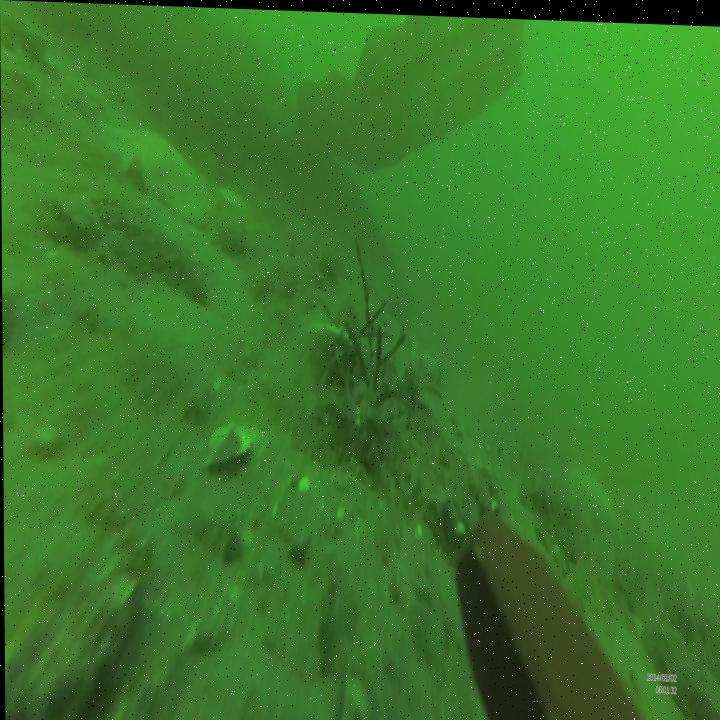starfish: (102, 112, 214, 223)
